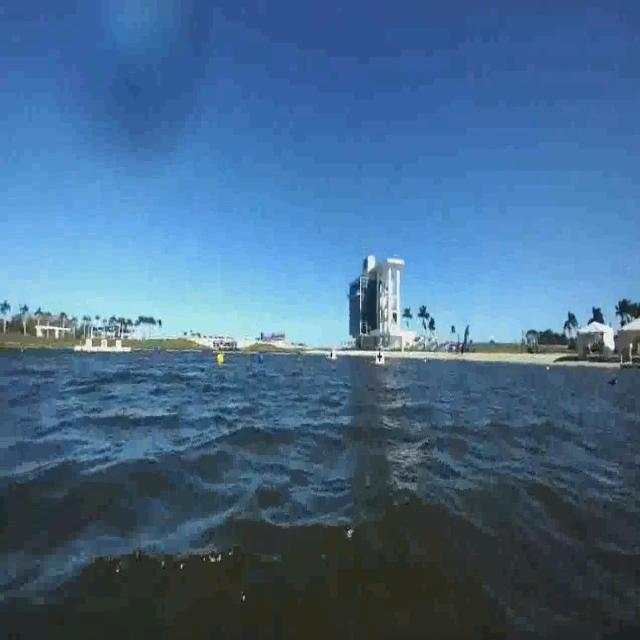blue-buoy: (258, 353, 265, 364)
yellow-buoy: (216, 352, 225, 366)
